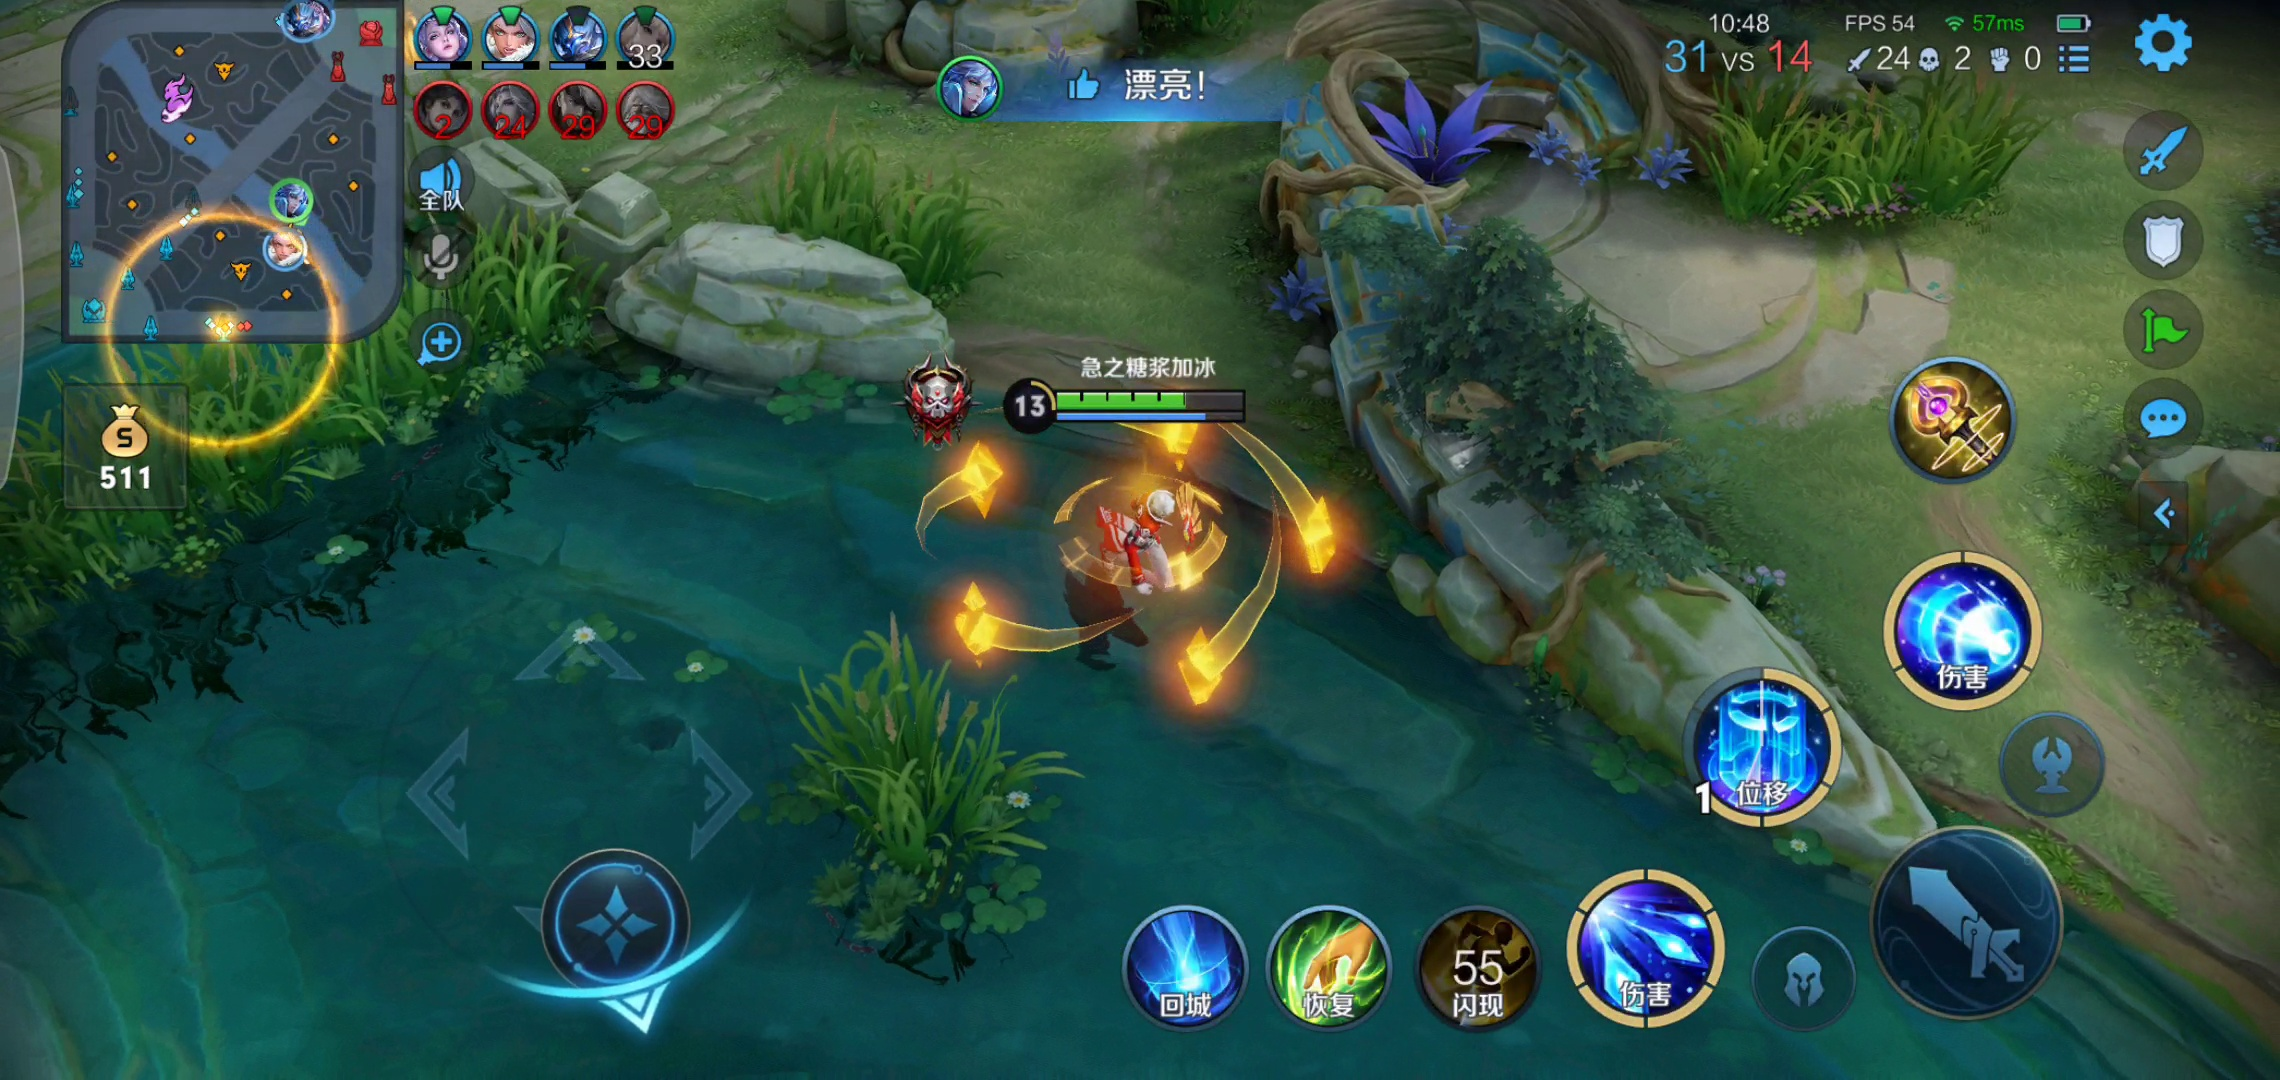grass: (16, 265, 592, 656), (769, 664, 1061, 952), (1666, 57, 2065, 230), (723, 145, 1000, 302)
hero: (1029, 456, 1229, 642)
